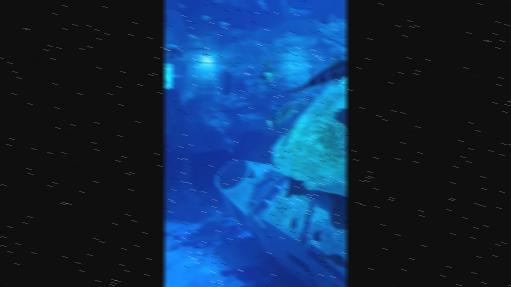Fish: (285, 178, 346, 229), (288, 60, 346, 92), (280, 0, 313, 19), (329, 194, 346, 229), (275, 101, 296, 125), (285, 178, 308, 197), (325, 254, 346, 267), (165, 44, 183, 58), (335, 108, 346, 127), (262, 69, 275, 82), (223, 0, 247, 7), (265, 118, 272, 131), (257, 0, 266, 10), (218, 21, 231, 27), (313, 230, 320, 241), (290, 216, 296, 228), (318, 18, 329, 24), (187, 34, 199, 39), (266, 59, 273, 67), (297, 99, 308, 104), (201, 15, 211, 20), (178, 3, 184, 8), (289, 8, 294, 13), (213, 0, 221, 2)
